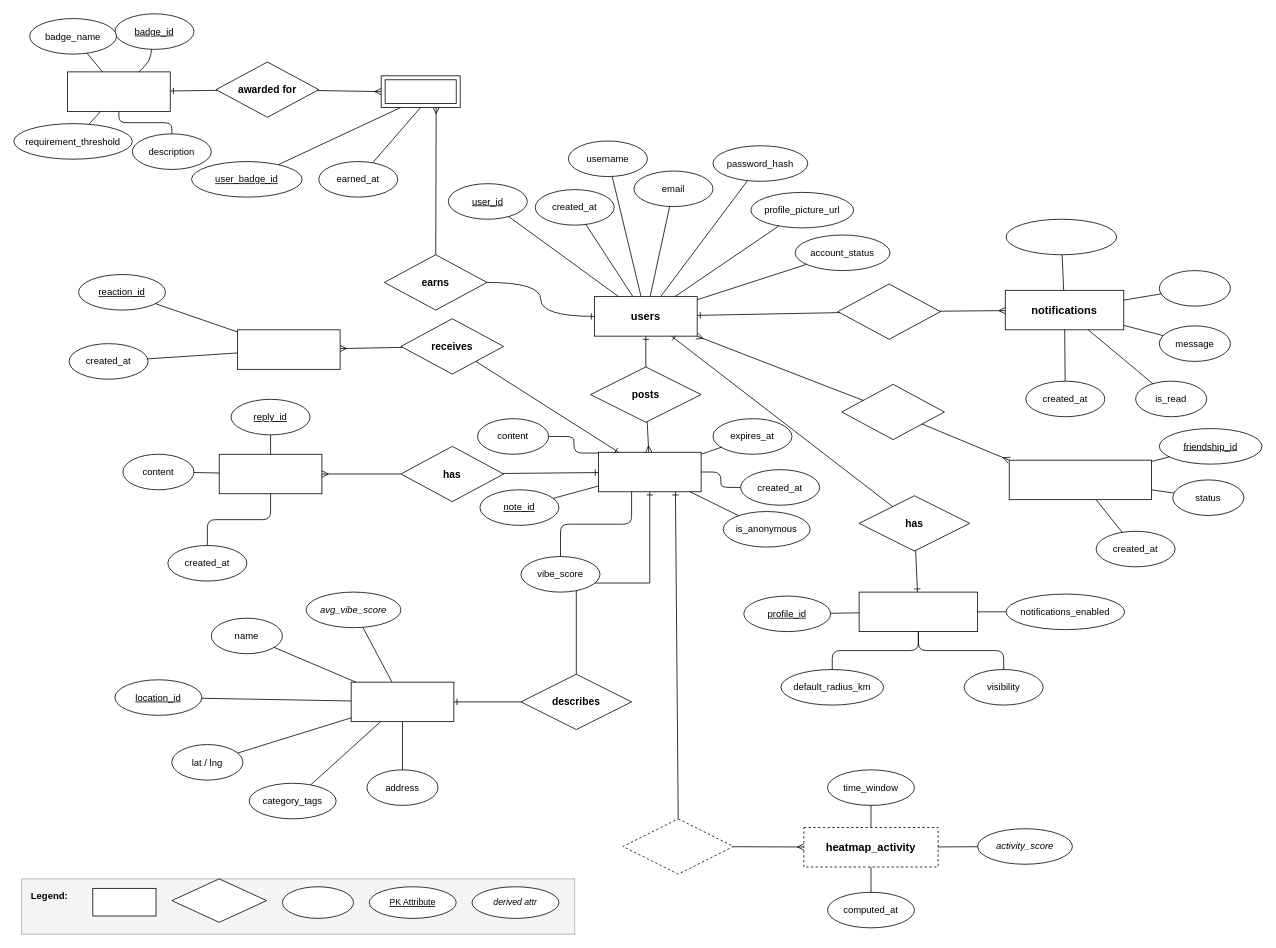
Image size: 1276x948. Some labels were removed from this diagram. Here are the shapes that lost their labels. From the top down, the centre of each, then its label:
the point at 118,91: badges
the point at 420,91: user_badges
the point at 1061,236: notification_id
the point at 1194,288: type
the point at 888,311: alerts
the point at 288,349: reactions
the point at 892,412: connected
the point at 270,473: replies
the point at 649,471: notes
the point at 1079,479: friend_connections
the point at 918,611: user_profiles
the point at 402,701: locations
the point at 678,846: derived from
the point at 124,902: Entity
the point at 219,900: Relationship
the point at 318,902: Attribute
